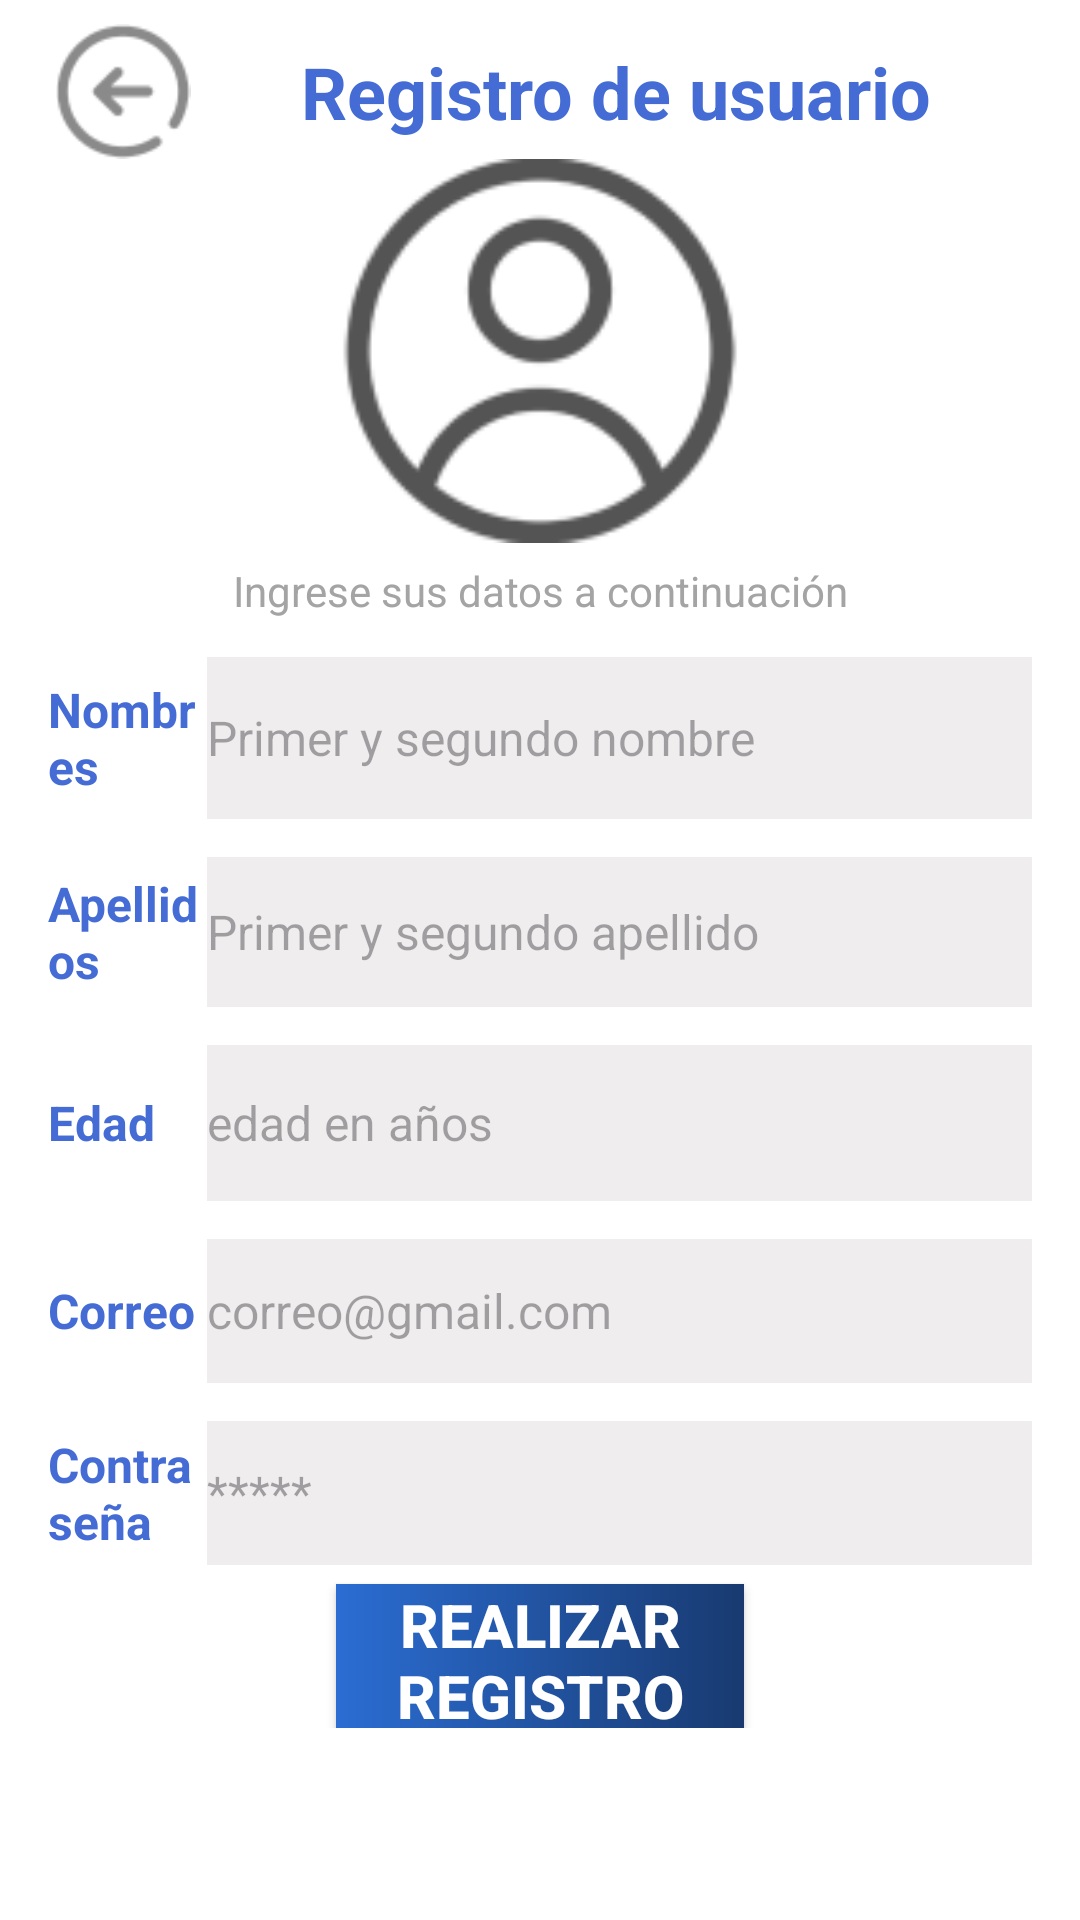

Named icons in this screenshot (1080*1920) and their centers, (x=x, y=y):
regresoos: (x=124, y=92)
